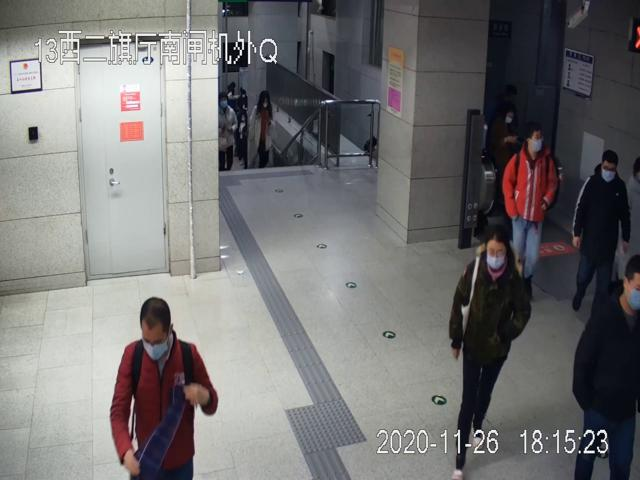person: (448, 225, 531, 480), (111, 296, 218, 480), (573, 148, 632, 312), (502, 123, 557, 283)
